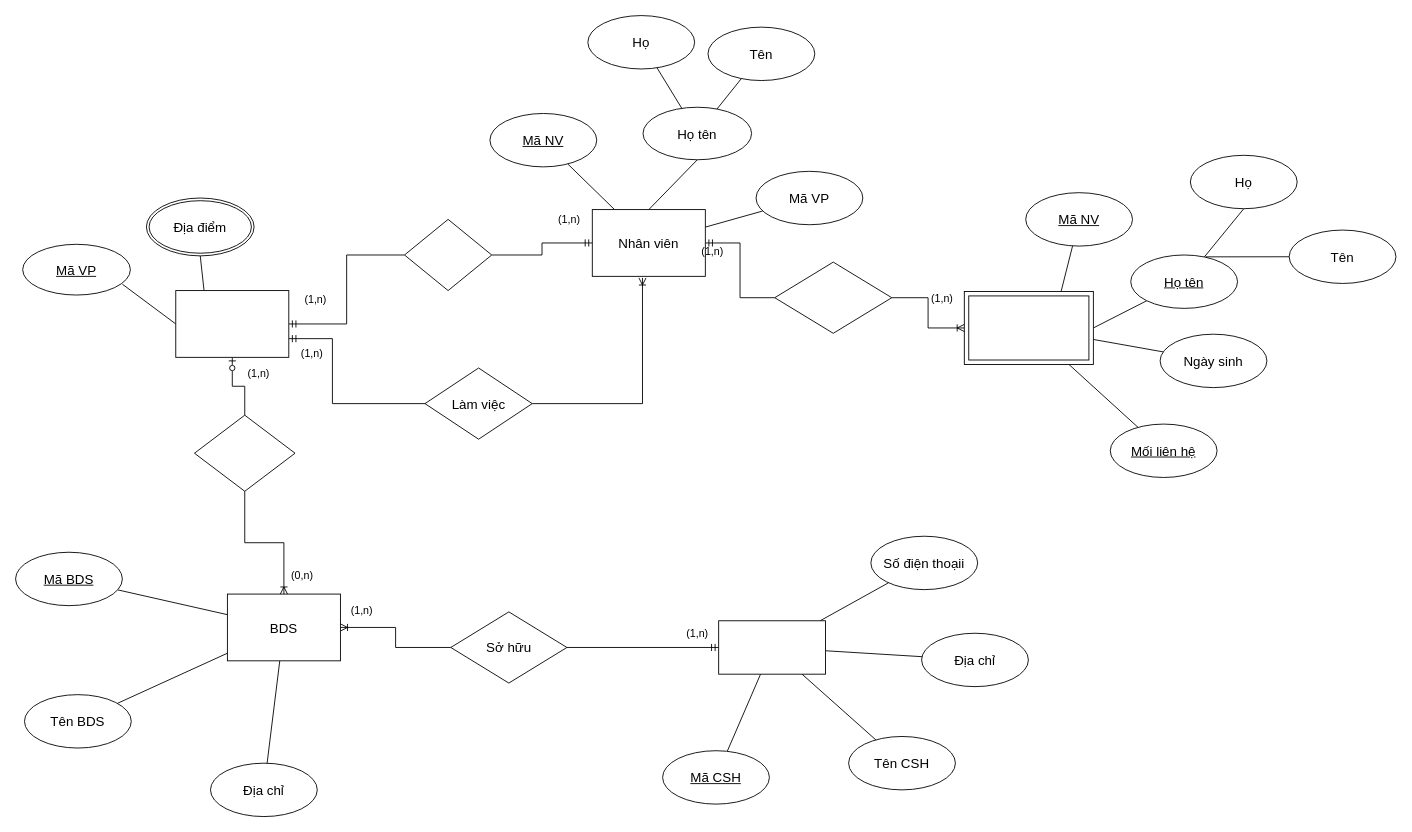
Some shapes in this 1412 by 832 pixel diagram are drawn without their labels. Here are the shapes that lost their labels. From the top down, the box of each, then its label:
(404, 218, 492, 291): Trưởng phòng
(774, 261, 892, 333): Có
(175, 290, 289, 357): Văn Phòng
(963, 291, 1093, 364): Thân nhân
(194, 414, 295, 491): Bán
(718, 620, 825, 674): Chủ sở hữu
